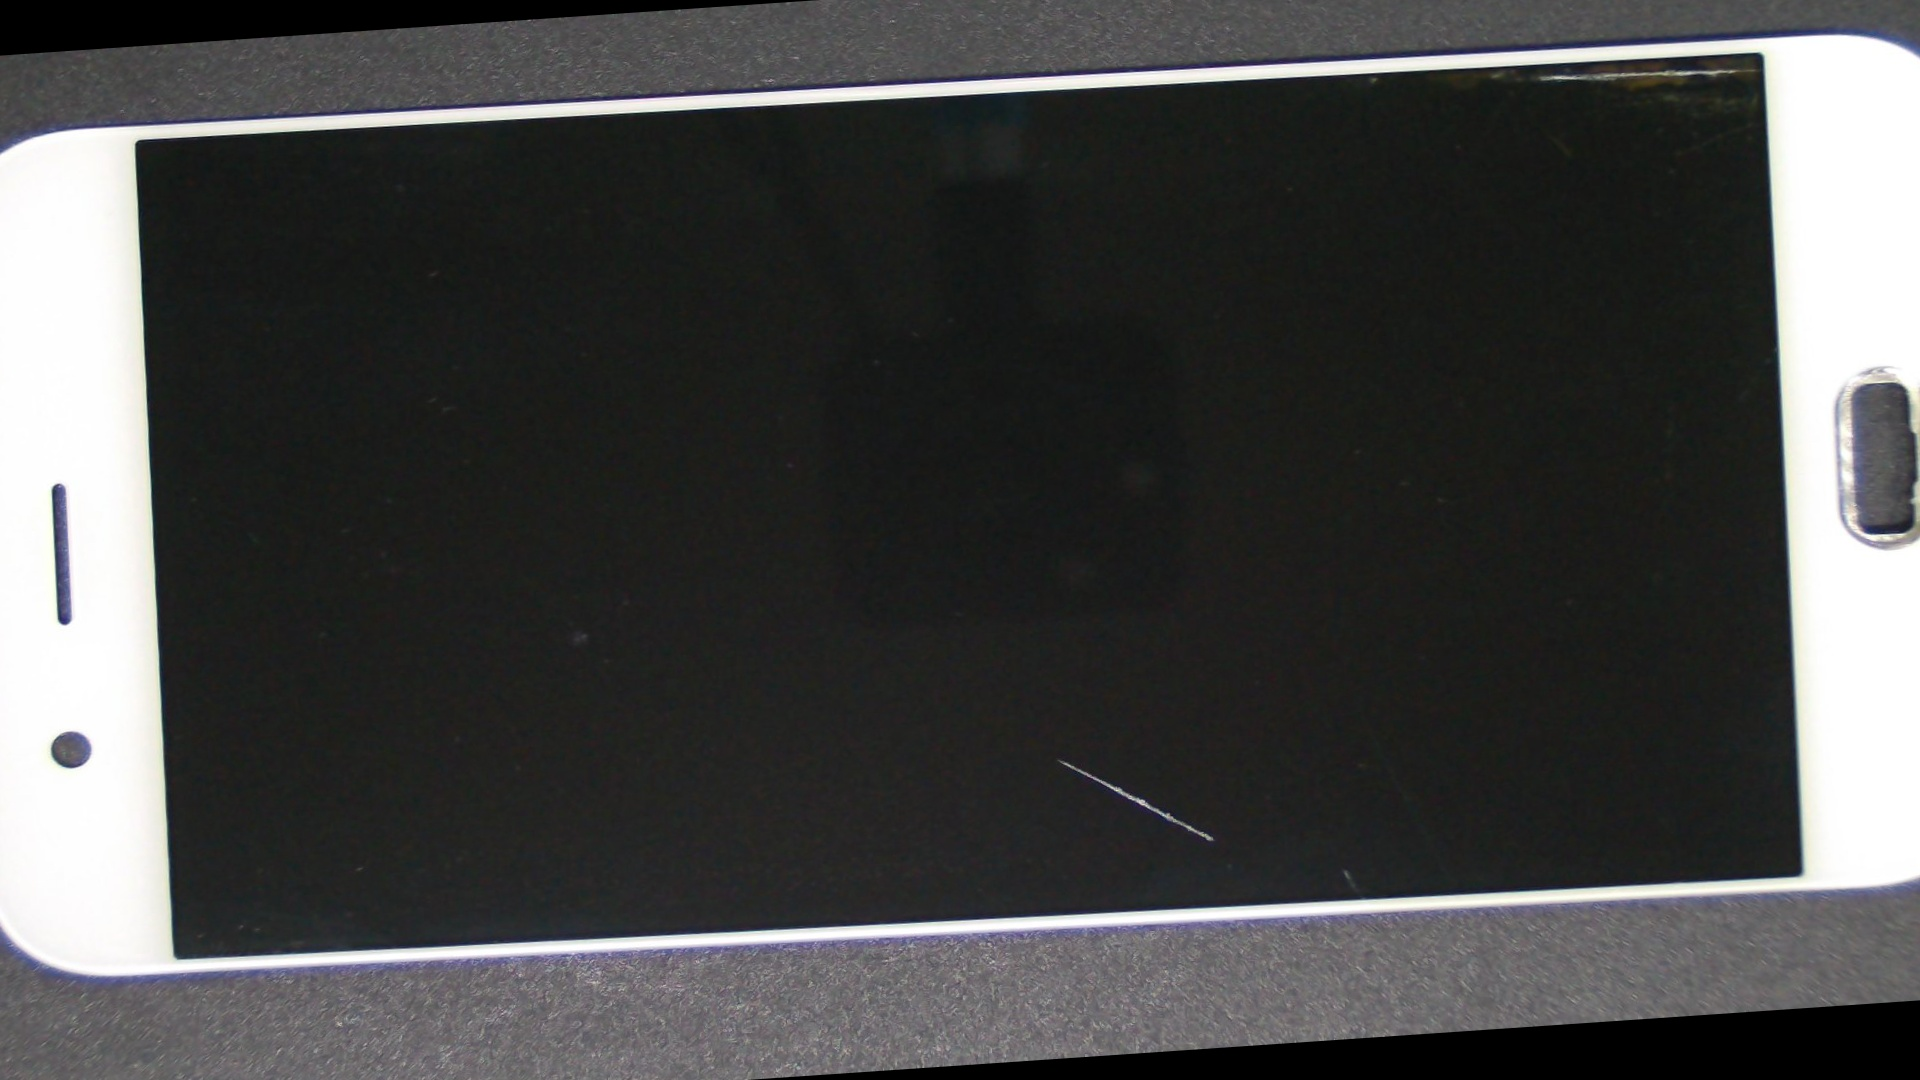oil: (455, 334, 1651, 1080), (700, 0, 1920, 194)
